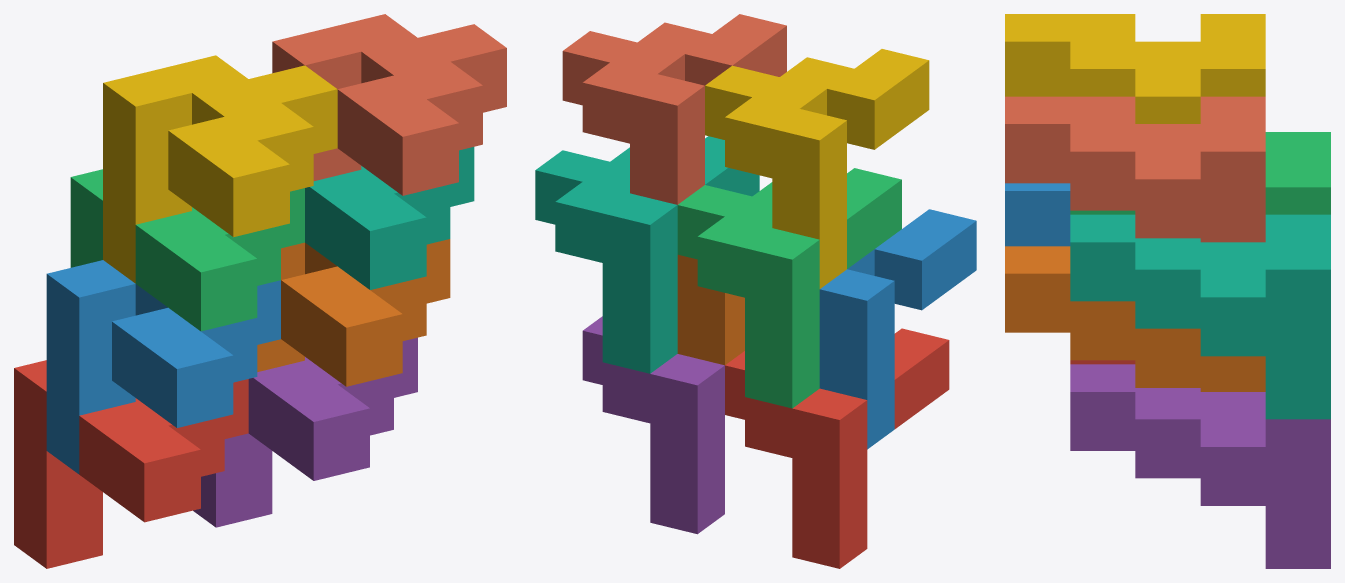
Rendered from tiling.obj.
3 views of the same model, side by side, from view 1: azimuth 30°, elevation 25°; view 2: azimuth 150°, elevation 25°; view 3: azimuth 270°, elevation 25° (orthographic). The views are drawn at different scales.
Parts seen in each view (by area): view 1: copy_1_domain_4, copy_1_domain_2, copy_1_domain_8, copy_1_domain_1, copy_1_domain_5, copy_1_domain_3, copy_1_domain_6, copy_1_domain_7; view 2: copy_1_domain_4, copy_1_domain_3, copy_1_domain_8, copy_1_domain_7, copy_1_domain_1, copy_1_domain_2, copy_1_domain_5, copy_1_domain_6; view 3: copy_1_domain_7, copy_1_domain_8, copy_1_domain_5, copy_1_domain_4, copy_1_domain_6, copy_1_domain_3, copy_1_domain_2.
Part boxes in pixels (box(x1,y1,x2,y2)): copy_1_domain_4: box(103, 55, 337, 283); copy_1_domain_2: box(46, 260, 280, 474); copy_1_domain_8: box(272, 14, 506, 195); copy_1_domain_1: box(14, 360, 248, 568); copy_1_domain_5: box(193, 337, 417, 527); copy_1_domain_3: box(70, 169, 304, 331); copy_1_domain_6: box(257, 239, 450, 386); copy_1_domain_7: box(305, 147, 474, 289); copy_1_domain_4: box(705, 49, 929, 288); copy_1_domain_3: box(677, 168, 901, 408); copy_1_domain_8: box(562, 14, 786, 204); copy_1_domain_7: box(535, 136, 759, 373); copy_1_domain_1: box(725, 328, 949, 568); copy_1_domain_2: box(819, 209, 976, 449); copy_1_domain_5: box(582, 316, 724, 534); copy_1_domain_6: box(677, 254, 744, 365); copy_1_domain_7: box(1070, 214, 1330, 419); copy_1_domain_8: box(1005, 96, 1265, 242); copy_1_domain_5: box(1070, 364, 1330, 568); copy_1_domain_4: box(1005, 14, 1265, 123); copy_1_domain_6: box(1005, 246, 1265, 391); copy_1_domain_3: box(1070, 132, 1330, 214); copy_1_domain_2: box(1005, 183, 1070, 246).
Size of the model in its own units: 7 by 8 by 5.
